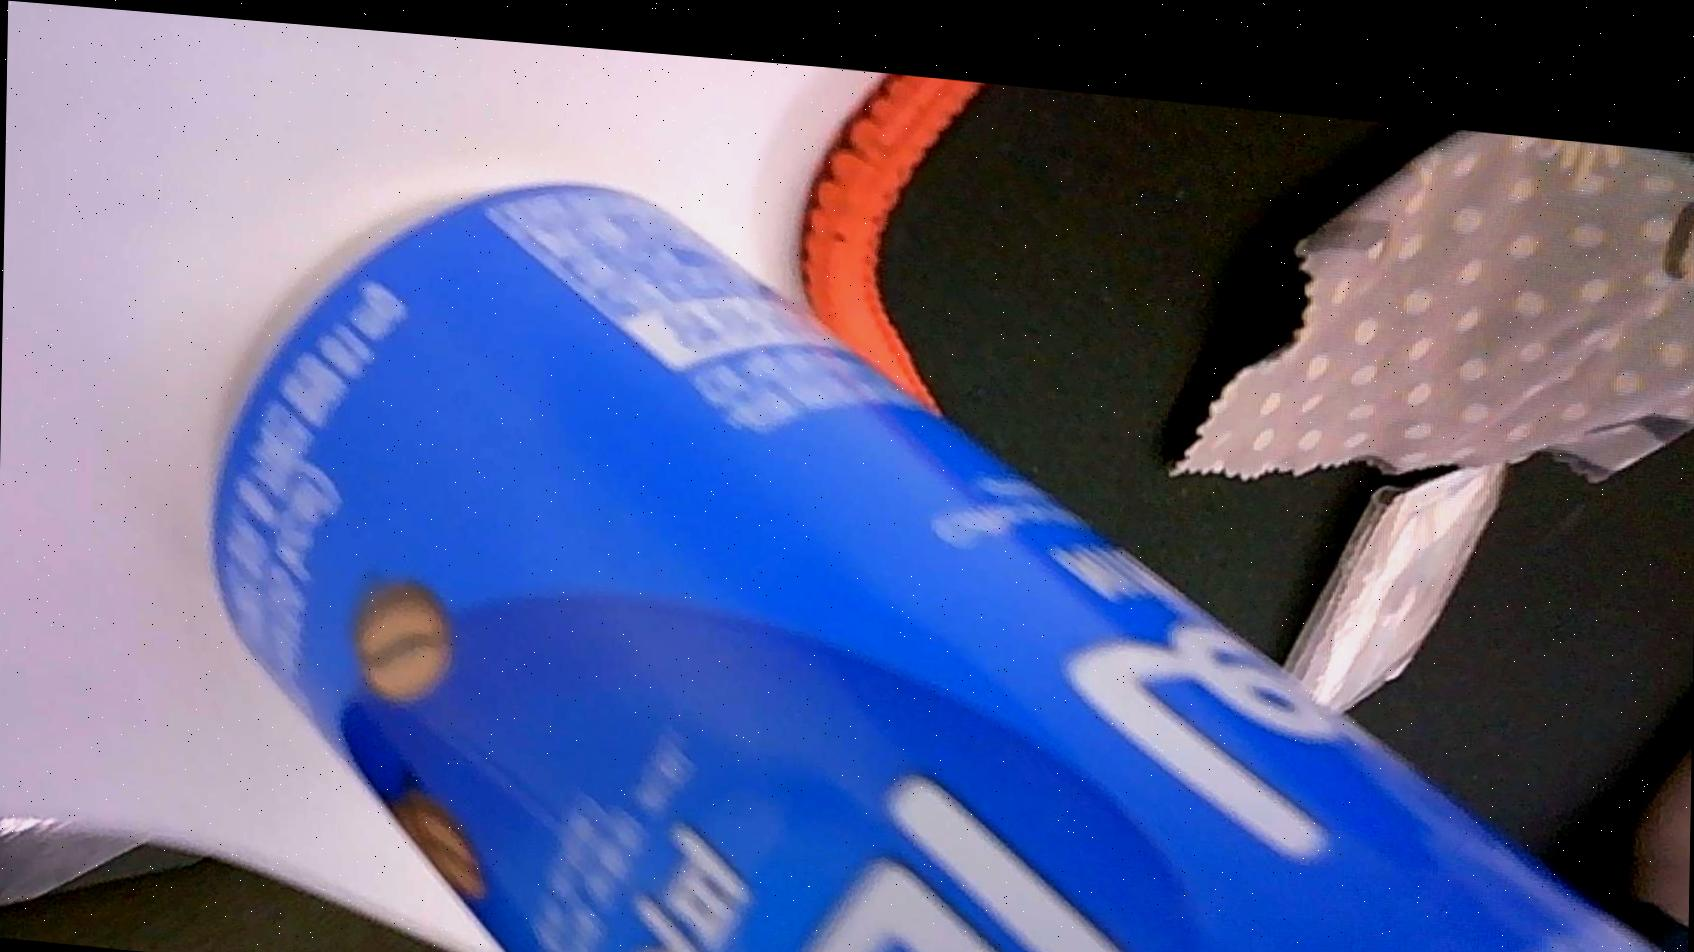letsbe: (199, 140, 1694, 952)
